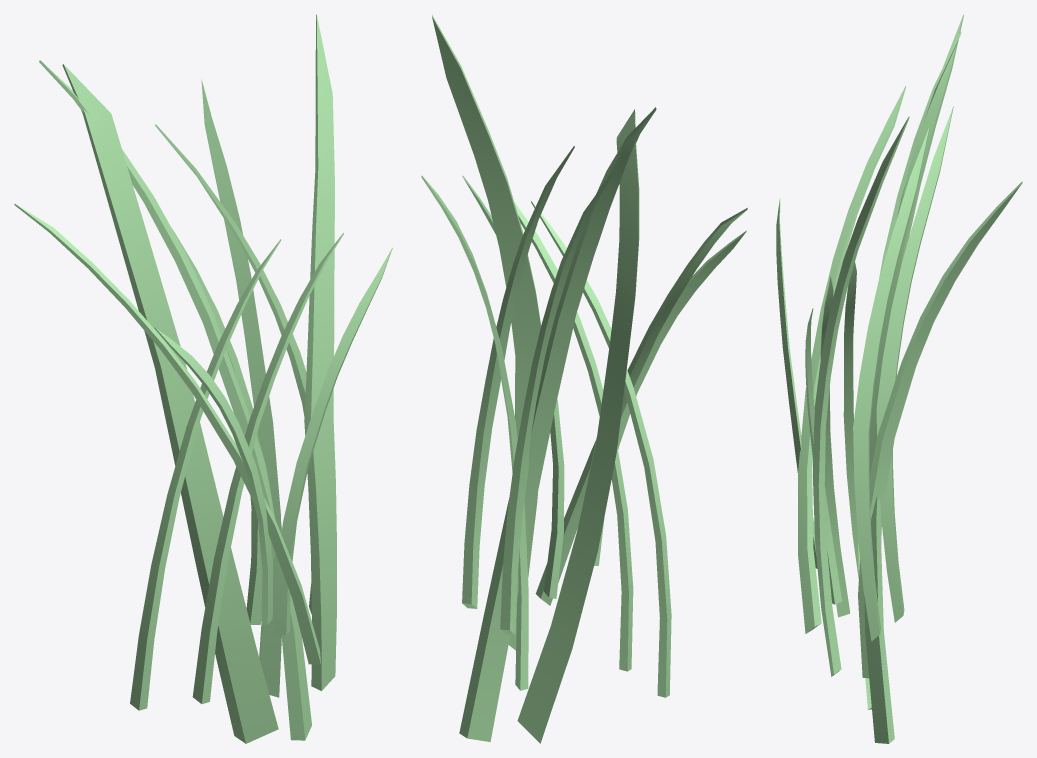
The model's file is sm_3dplants_02.gltf.
3 views of the same model, side by side, from view 1: azimuth 30°, elevation 25°; view 2: azimuth 150°, elevation 25°; view 3: azimuth 270°, elevation 25° (orthographic). The views are drawn at different scales.
Parts seen in each view (by area): view 1: sm_3dplants_02; view 2: sm_3dplants_02; view 3: sm_3dplants_02.
Boxes of the visible parts, x1,y1,x2,y2 form: sm_3dplants_02: [14, 14, 392, 743]; sm_3dplants_02: [421, 15, 747, 743]; sm_3dplants_02: [776, 14, 1022, 743].
Size of the model in its own units: 0.4737 by 0.9764 by 0.3407.
